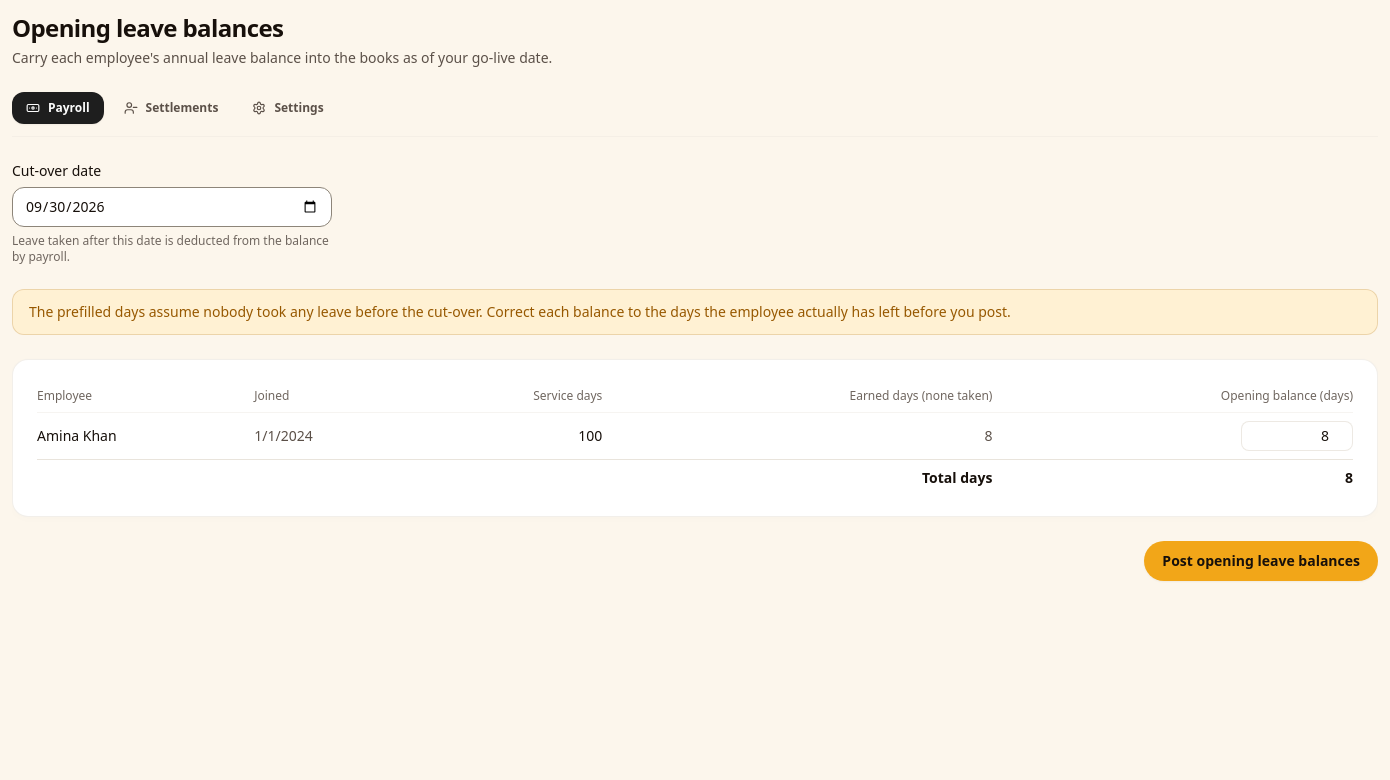
Scenario: OpeningLeaveView › allows a negative balance but rejects a cleared one
Replace the text in the number field named "Opening leave days for Amina Khan" with "-3": (1297, 436) [1241, 421, 1353, 451]
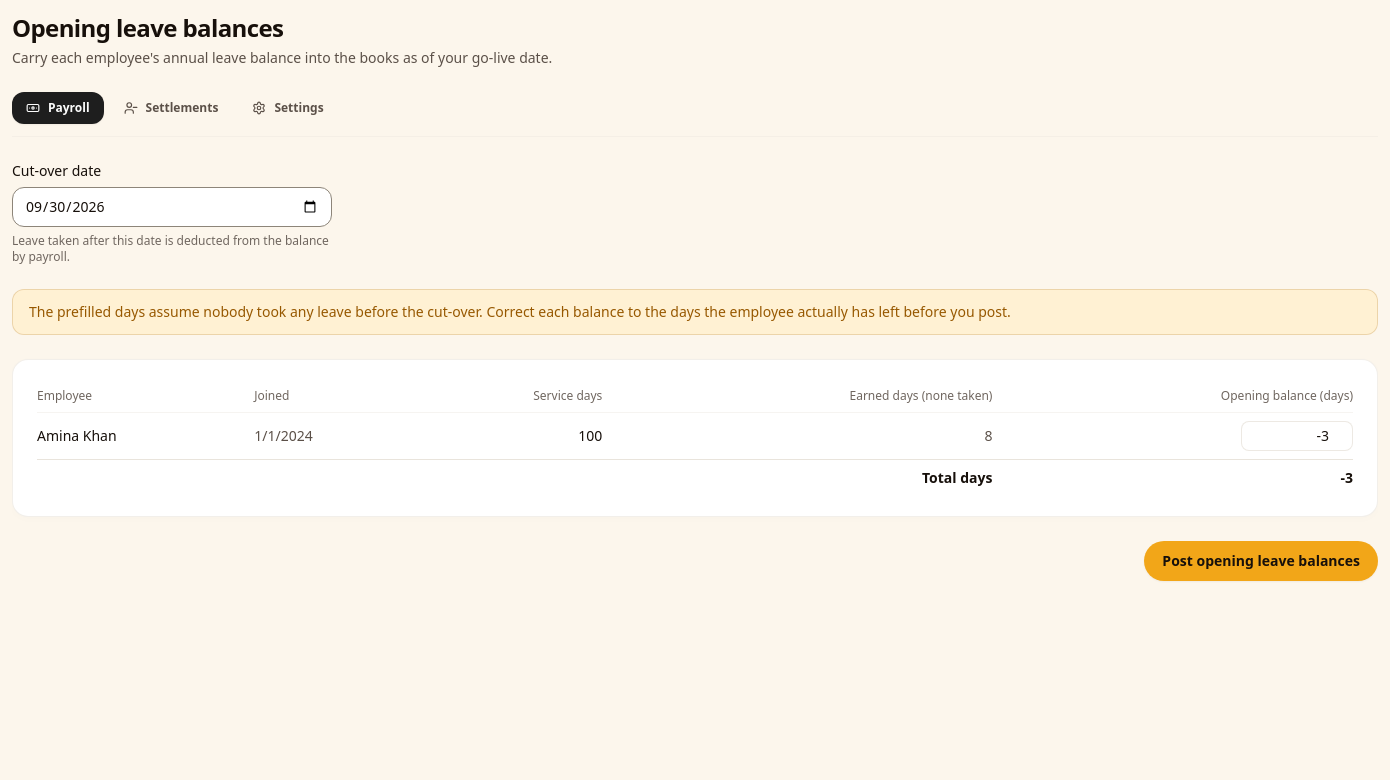
Expected: the button "Post opening leave balances" is enabled, [1144, 541, 1378, 581]
Expected: the cell with test id "opening-leave-total" reads "-3", [1340, 468, 1353, 487]
Clear the number field named "Opening leave days for Amina Khan": (1297, 436) [1241, 421, 1353, 451]
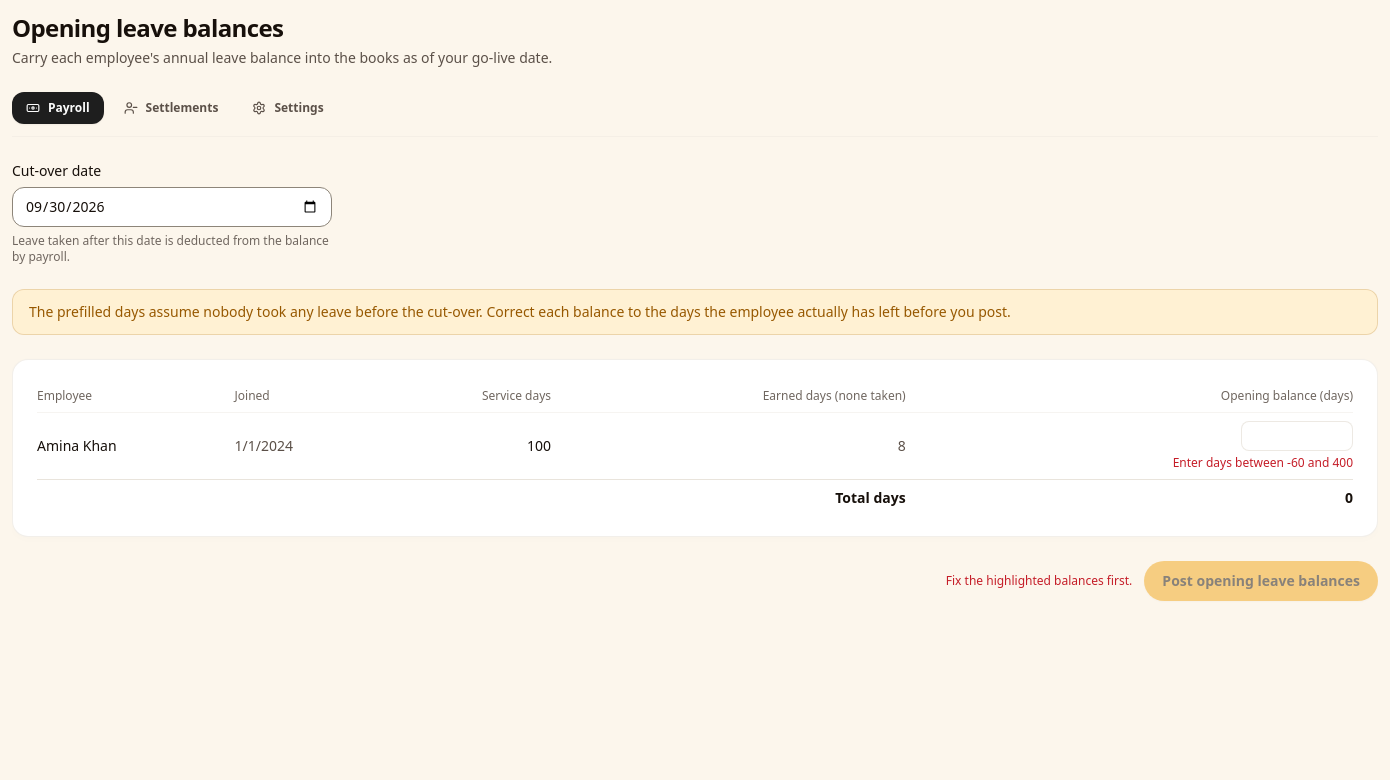
Expected: the button "Post opening leave balances" is disabled, [1144, 561, 1378, 601]
